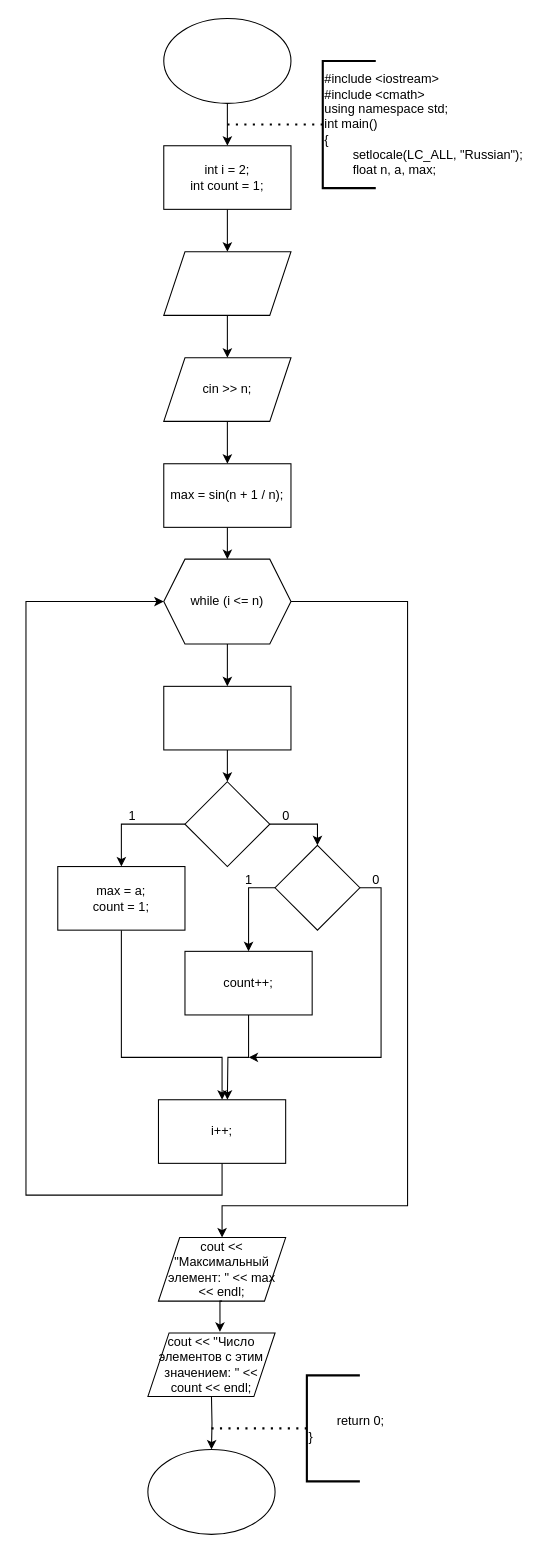
The diagram is 542 pixels wide and 1553 high, and some of its shapes have lost their labels. The box of each missing label's shape, as (x1, y1, x2, y2) in pixels:
a = sin(n + i / n);: (163, 685, 291, 750)
cout << "Введите число: \n";: (163, 251, 291, 315)
if (a == max): (274, 844, 360, 930)
if (a > max): (184, 781, 270, 867)
Конец: (147, 1448, 275, 1534)
Начало: (163, 17, 291, 103)
